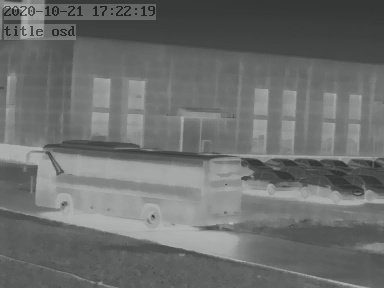vehicle: (36, 141, 240, 229), (297, 171, 363, 200), (240, 169, 304, 194), (349, 173, 383, 200), (230, 154, 270, 171), (261, 155, 298, 169), (348, 156, 381, 170), (318, 156, 349, 170), (295, 155, 325, 169)
